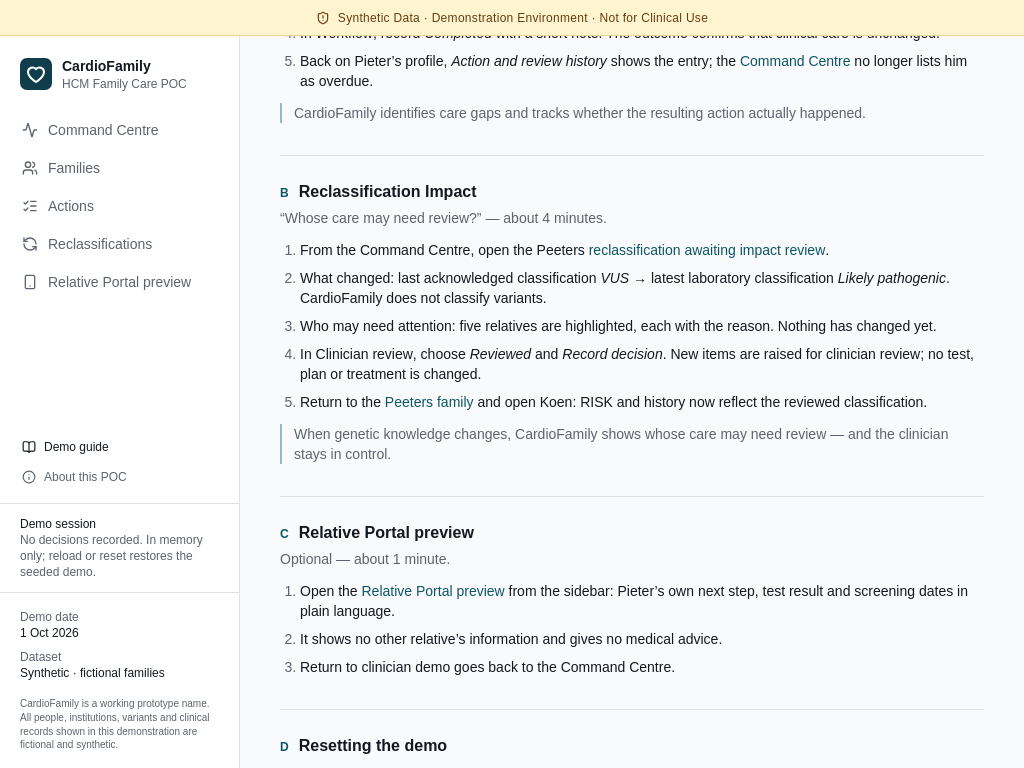
Scenario: Demo guide › step link “Peeters family” opens a working page
(page scrolled)
Click the link "Peeters family".
click(429, 402)  # box x1=385 y1=394 x2=474 y2=410
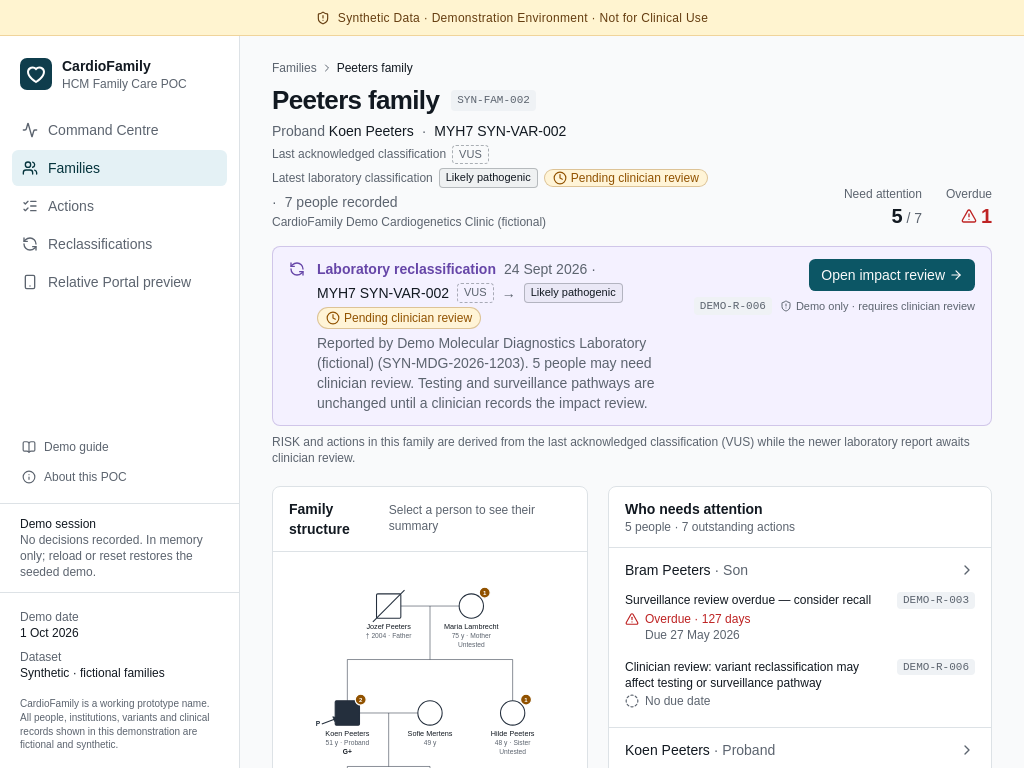
Result: the heading "Peeters family" is shown at x1=272 y1=84 x2=439 y2=116
